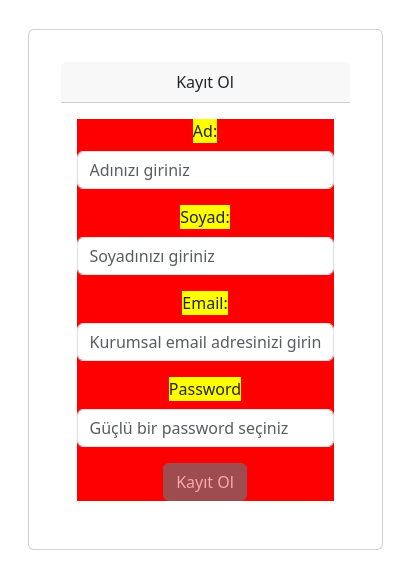
Test: Register Page › Error Messages › Email input throws error for ozan@wit.
The width and height of the screenshot is (412, 579).
Type "ozan@wit." into the field with test id "email-input" at [206, 342], box [77,323,334,361]
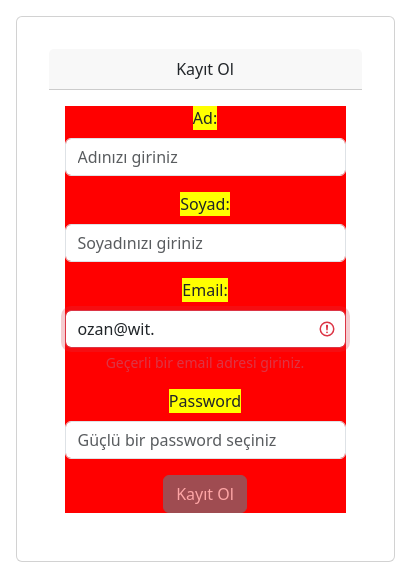
Expected: the text "Geçerli bir email adresi giriniz." is shown, [106,353,304,372]
